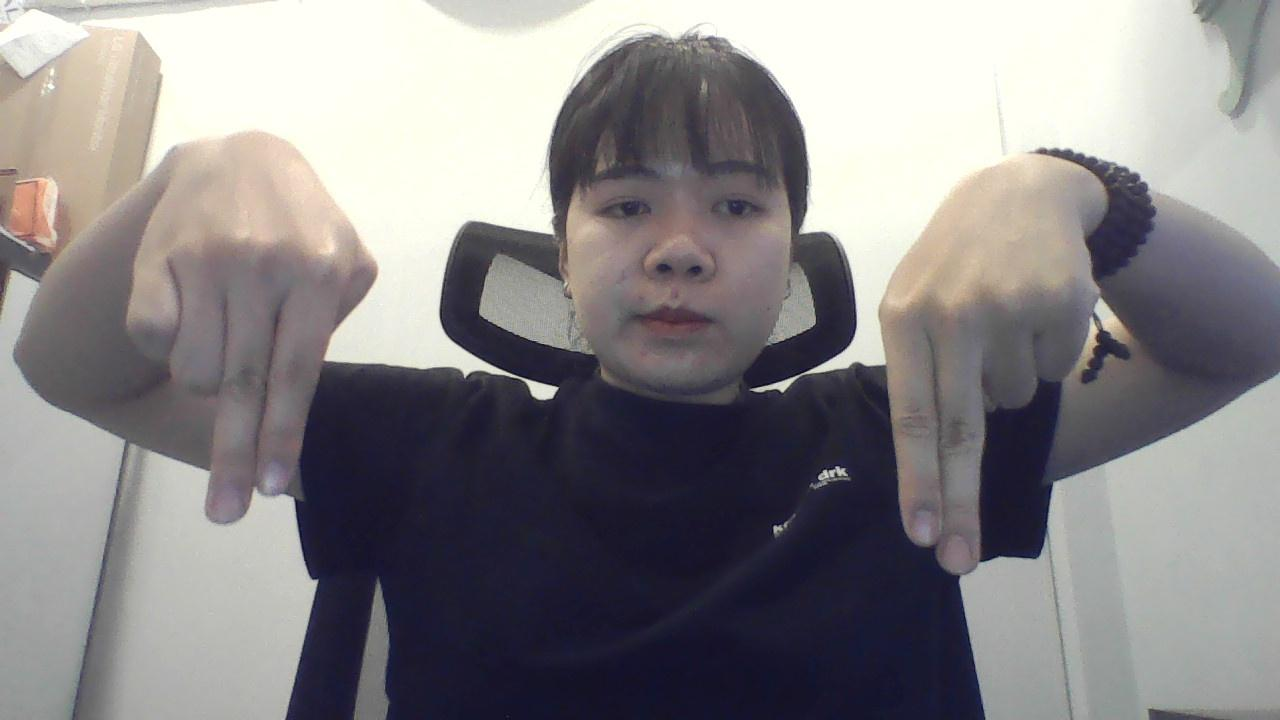N: (116, 137, 388, 540), (870, 142, 1100, 588)
